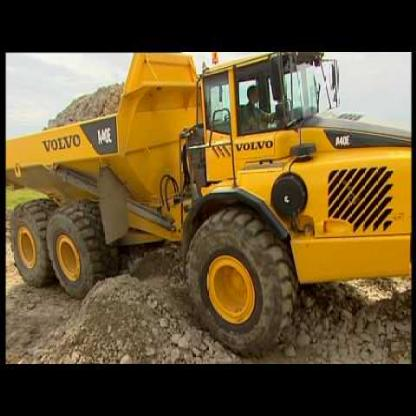dump_truck: (9, 55, 415, 354)
